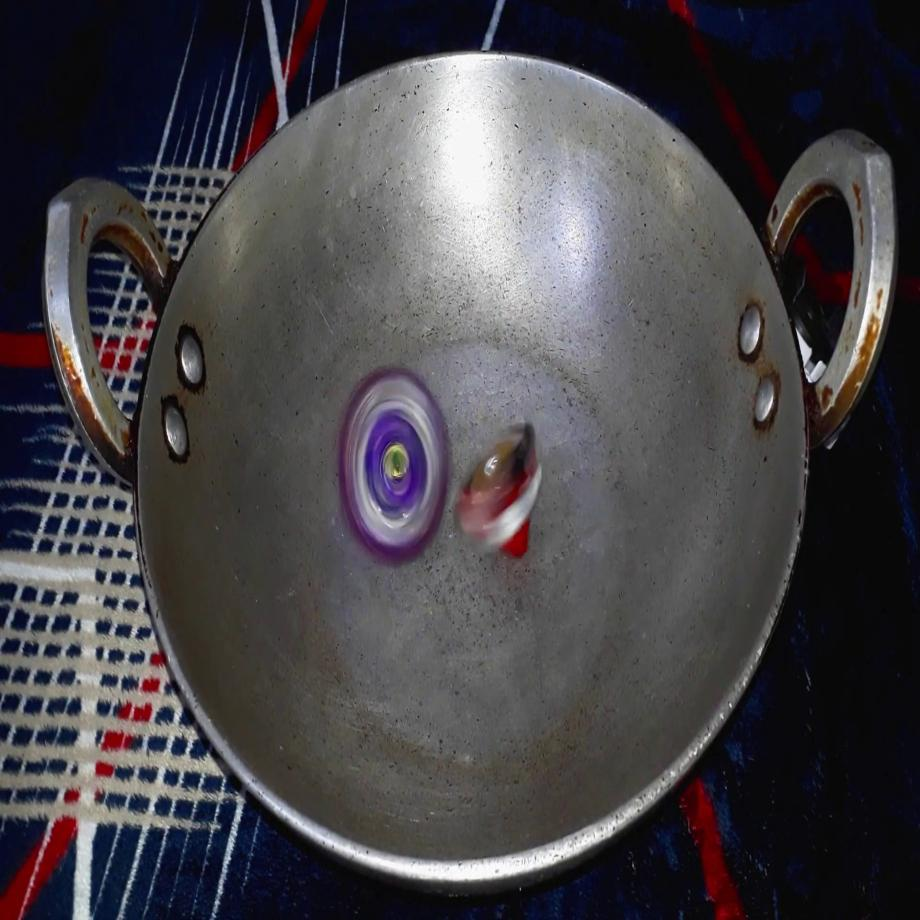beyblade: (321, 336, 459, 582), (446, 393, 548, 574)
